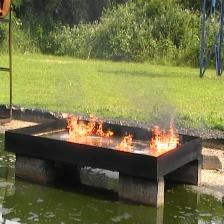fire: (67, 118, 105, 137), (149, 132, 180, 151), (120, 136, 133, 152)
